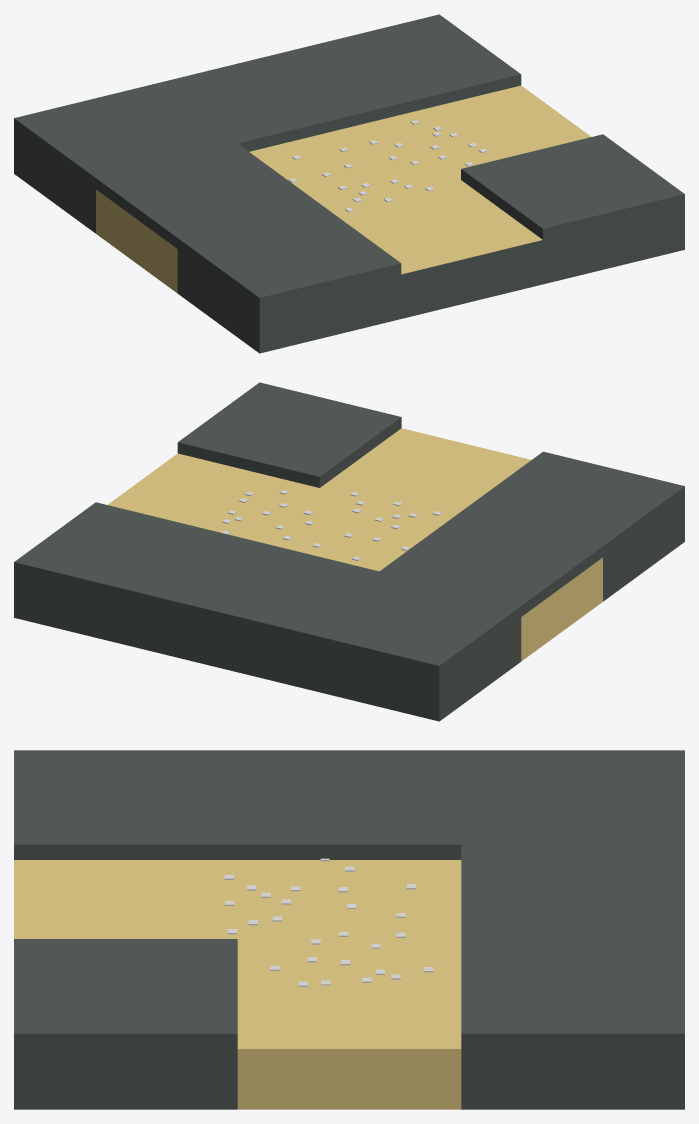
File: Jalan_Curve.fbx
3 renders of one model, top to bottom at view 1: azimuth 30°, elevation 25°; view 2: azimuth 150°, elevation 25°; view 3: azimuth 270°, elevation 25°, orthographic. The views are drawn at different scales.
Parts seen in each view (by area): view 1: Cube; view 2: Cube; view 3: Cube.
Boxes of the visible parts, box(x1,y1,x2,y2) form: Cube: box(14, 14, 684, 353); Cube: box(14, 382, 684, 721); Cube: box(14, 750, 684, 1109).
Size of the model in its own units: 200 by 25 by 200.
